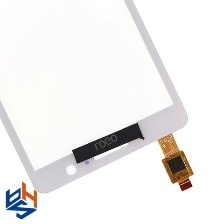phone: (0, 0, 199, 196)
